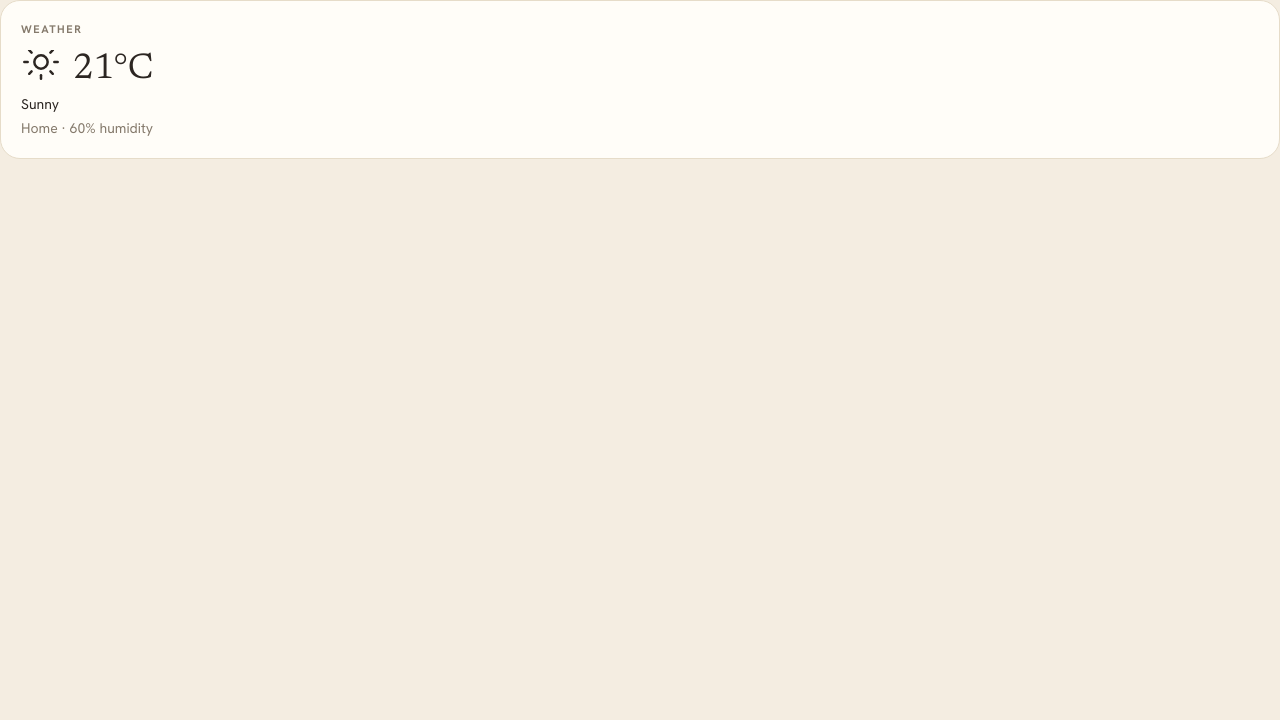
Test case: WeatherWidget › opens the hourly forecast modal on click, and closes it again
The image size is (1280, 720).
Check: the text "Hourly forecast" is not shown
Click the text "Sunny" at (40,104), box [21,94,59,114]
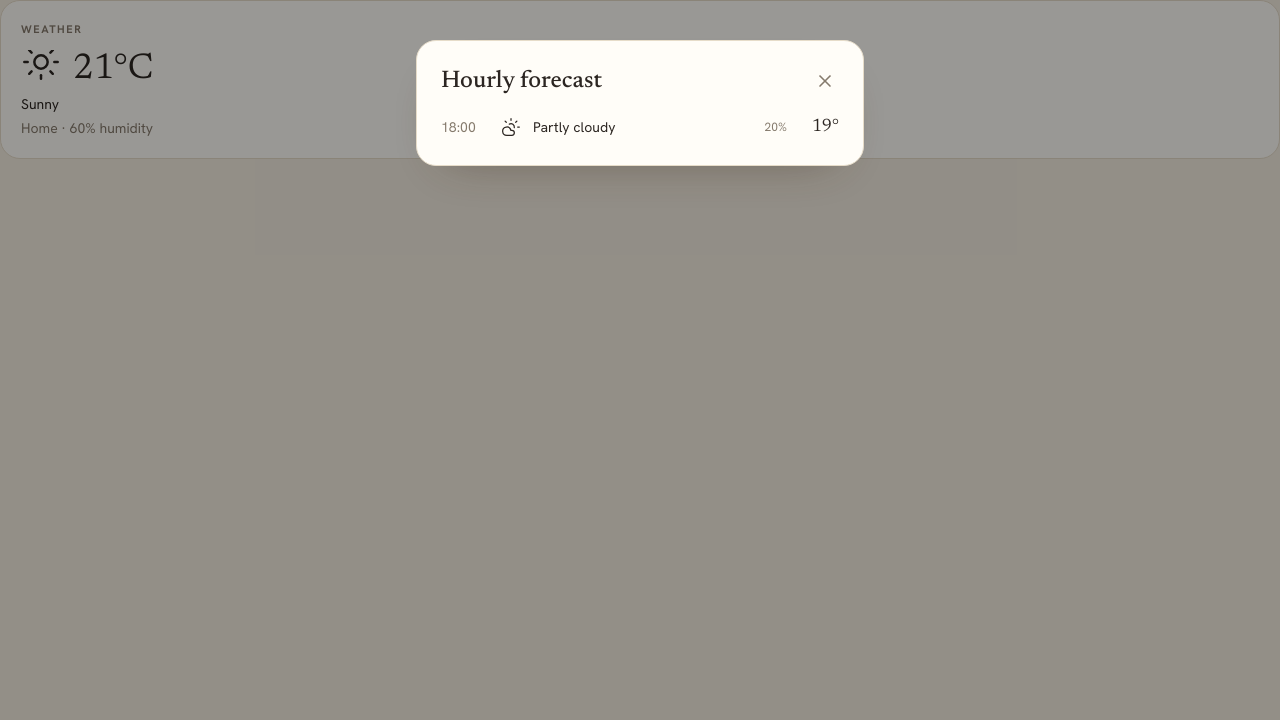
Check: the heading "Hourly forecast" is shown, box [441,65,602,97]
Check: the text "19°" is shown, box [812,118,839,136]
Check: the text "20%" is shown, box [765,119,787,135]
Click the button named "Close" at (825,81), box [811,67,839,95]
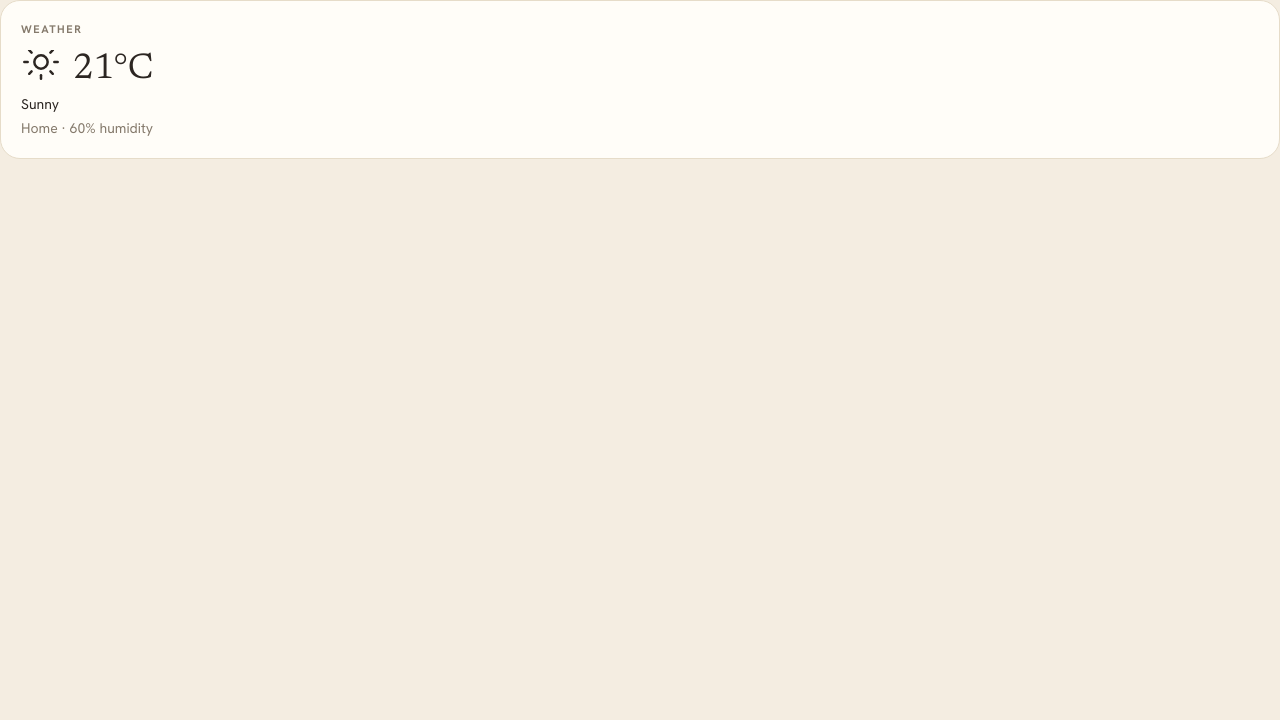
Check: the heading "Hourly forecast" is gone
